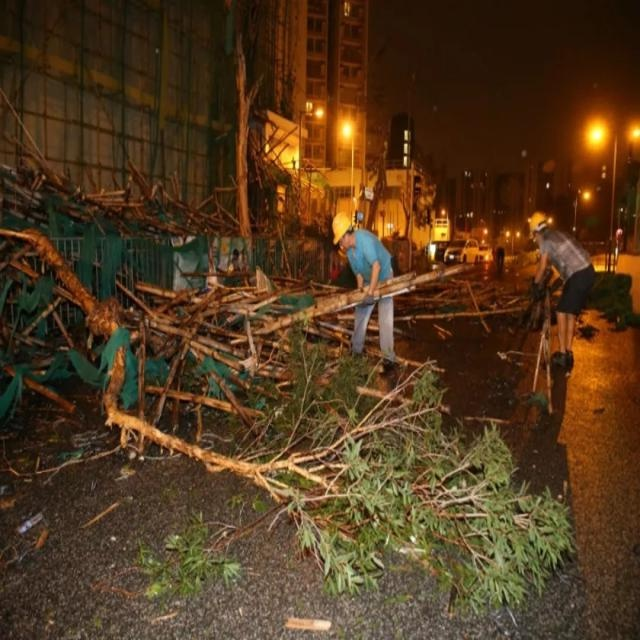Con_Casco: (331, 212, 356, 253)
